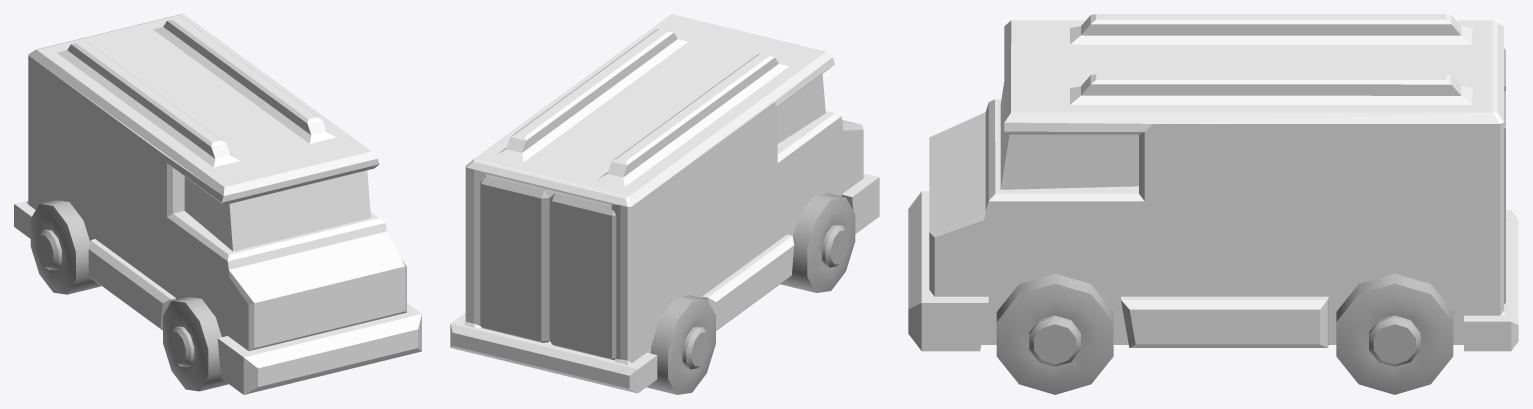
Rendered from survival car.fbx.
3 renders of one model, left to right at view 1: azimuth 30°, elevation 25°; view 2: azimuth 150°, elevation 25°; view 3: azimuth 270°, elevation 25°, orthographic. The views are drawn at different scales.
Parts seen in each view (by area): view 1: CarBody, Wheels1, Wheels; view 2: CarBody, CarDoor, CarDoor1, Wheels, Wheels1; view 3: CarBody, Wheels, Wheels1.
Part boxes in pixels (x1,y1,x2,y2): CarBody: (14, 14, 421, 394); Wheels1: (30, 200, 101, 294); Wheels: (163, 296, 228, 391); CarBody: (450, 14, 879, 393); CarDoor: (480, 176, 549, 342); CarDoor1: (549, 193, 616, 359); Wheels: (780, 193, 855, 292); Wheels1: (646, 295, 715, 394); CarBody: (908, 14, 1518, 351); Wheels: (996, 273, 1113, 394); Wheels1: (1336, 273, 1453, 394).
Size of the model in its own units: 169 by 176 by 338.
